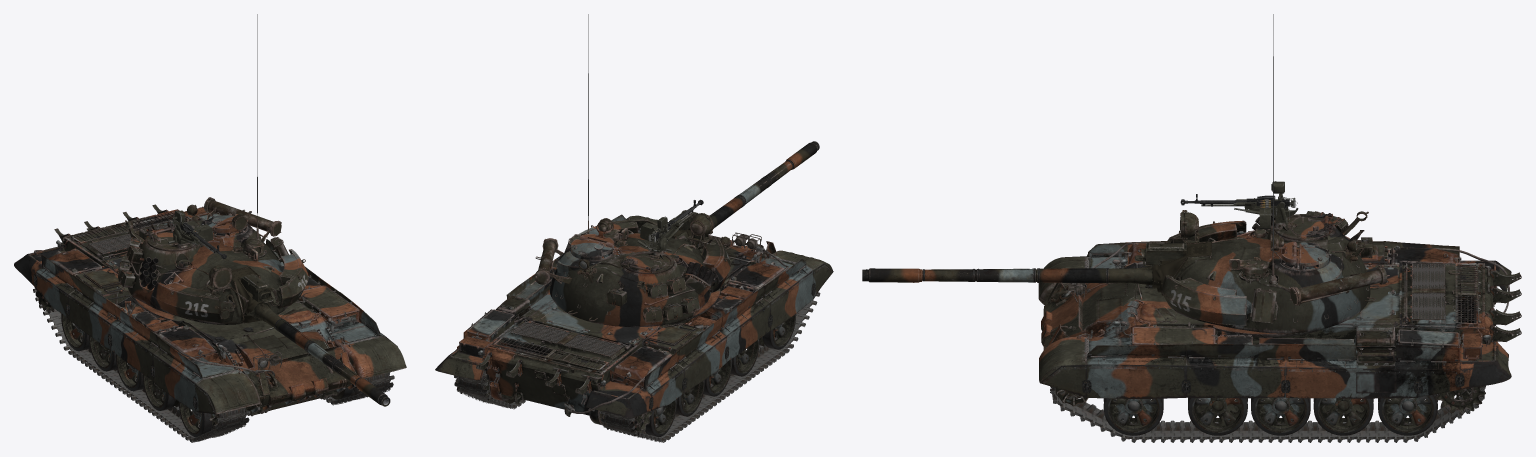
Rendered from georgian_t-55am.glb.
3 renders of one model, left to right at view 1: azimuth 30°, elevation 25°; view 2: azimuth 150°, elevation 25°; view 3: azimuth 270°, elevation 25°, orthographic. The views are drawn at different scales.
Parts seen in each view (by area): view 1: vehicle#x_root_107_5372aeb0-e8bb-425d-935c-6684d30b8530_0, vehicle#bone_turret_51_3f5ec90d-52c6-4b57-8119-08db6d94c7bb_, vehicle#track_r_78, vehicle#ex_armor_01_52_3f5ec90d-52c6-4b57-8119-08db6d94c7bb_, vehicle#gun_barrel_57, vehicle#ex_decor_l_01_10_5372aeb0-e8bb-425d-935c-6684d30b853, vehicle#ex_decor_r_01_18_5372aeb0-e8bb-425d-935c-6684d30b853, vehicle#ex_decor_l_05_32_5372aeb0-e8bb-425d-935c-6684d30b853, vehicle#ex_armor_r_01_19_5372aeb0-e8bb-425d-935c-6684d30b853, vehicle#ex_armor_02_62_3f5ec90d-52c6-4b57-8119-08db6d94c7bb_, vehicle#ex_armor_r_02_20_5372aeb0-e8bb-425d-935c-6684d30b853, vehicle#ex_armor_r_03_21_5372aeb0-e8bb-425d-935c-6684d30b853 (+25 smaller); view 2: vehicle#x_root_107_5372aeb0-e8bb-425d-935c-6684d30b8530_0, vehicle#bone_turret_51_3f5ec90d-52c6-4b57-8119-08db6d94c7bb_, vehicle#track_r_78, vehicle#ex_decor_r_07_23_5372aeb0-e8bb-425d-935c-6684d30b853, vehicle#gun_barrel_57, vehicle#ex_armor_r_01_19_5372aeb0-e8bb-425d-935c-6684d30b853, vehicle#x_root_107_c6357b88-99f9-46f7-86b0-bb5c10748ba3_0, vehicle#ex_armor_r_02_20_5372aeb0-e8bb-425d-935c-6684d30b853, vehicle#ex_decor_r_06_83_5372aeb0-e8bb-425d-935c-6684d30b853, vehicle#ex_armor_r_03_21_5372aeb0-e8bb-425d-935c-6684d30b853, vehicle#ex_decor_r_05_86_5372aeb0-e8bb-425d-935c-6684d30b853, vehicle#ex_decor_r_02_25_5372aeb0-e8bb-425d-935c-6684d30b853 (+30 smaller); view 3: vehicle#x_root_107_5372aeb0-e8bb-425d-935c-6684d30b8530_0, vehicle#bone_turret_51_3f5ec90d-52c6-4b57-8119-08db6d94c7bb_, vehicle#track_l_81, vehicle#gun_barrel_57, vehicle#ex_armor_l_04_14_5372aeb0-e8bb-425d-935c-6684d30b853, vehicle#ex_armor_l_02_12_5372aeb0-e8bb-425d-935c-6684d30b853, vehicle#ex_armor_l_03_13_5372aeb0-e8bb-425d-935c-6684d30b853, vehicle#ex_armor_02_62_3f5ec90d-52c6-4b57-8119-08db6d94c7bb_, vehicle#wheel_l_05_96, vehicle#wheel_l_03_92, vehicle#wheel_l_04_94, vehicle#wheel_l_02_90 (+29 smaller).
Part boxes in pixels (bbox=[...]): vehicle#x_root_107_5372aeb0-e8bb-425d-935c-6684d30b8530_0: bbox=[34, 204, 379, 416]; vehicle#bone_turret_51_3f5ec90d-52c6-4b57-8119-08db6d94c7bb_: bbox=[125, 210, 287, 324]; vehicle#track_r_78: bbox=[33, 288, 250, 442]; vehicle#ex_armor_01_52_3f5ec90d-52c6-4b57-8119-08db6d94c7bb_: bbox=[151, 282, 234, 323]; vehicle#gun_barrel_57: bbox=[254, 303, 390, 406]; vehicle#ex_decor_l_01_10_5372aeb0-e8bb-425d-935c-6684d30b853: bbox=[341, 336, 406, 378]; vehicle#ex_decor_r_01_18_5372aeb0-e8bb-425d-935c-6684d30b853: bbox=[196, 370, 260, 414]; vehicle#ex_decor_l_05_32_5372aeb0-e8bb-425d-935c-6684d30b853: bbox=[298, 285, 359, 326]; vehicle#ex_armor_r_01_19_5372aeb0-e8bb-425d-935c-6684d30b853: bbox=[151, 353, 195, 411]; vehicle#ex_armor_02_62_3f5ec90d-52c6-4b57-8119-08db6d94c7bb_: bbox=[277, 249, 308, 308]; vehicle#ex_armor_r_02_20_5372aeb0-e8bb-425d-935c-6684d30b853: bbox=[109, 324, 153, 380]; vehicle#ex_armor_r_03_21_5372aeb0-e8bb-425d-935c-6684d30b853: bbox=[66, 294, 110, 349]; vehicle#x_root_107_5372aeb0-e8bb-425d-935c-6684d30b8530_0: bbox=[476, 241, 795, 425]; vehicle#bone_turret_51_3f5ec90d-52c6-4b57-8119-08db6d94c7bb_: bbox=[549, 221, 715, 327]; vehicle#track_r_78: bbox=[600, 292, 820, 442]; vehicle#ex_decor_r_07_23_5372aeb0-e8bb-425d-935c-6684d30b853: bbox=[586, 379, 652, 417]; vehicle#gun_barrel_57: bbox=[709, 141, 819, 228]; vehicle#ex_armor_r_01_19_5372aeb0-e8bb-425d-935c-6684d30b853: bbox=[770, 270, 814, 330]; vehicle#x_root_107_c6357b88-99f9-46f7-86b0-bb5c10748ba3_0: bbox=[512, 322, 623, 355]; vehicle#ex_armor_r_02_20_5372aeb0-e8bb-425d-935c-6684d30b853: bbox=[726, 303, 771, 361]; vehicle#ex_decor_r_06_83_5372aeb0-e8bb-425d-935c-6684d30b853: bbox=[612, 346, 671, 386]; vehicle#ex_armor_r_03_21_5372aeb0-e8bb-425d-935c-6684d30b853: bbox=[684, 336, 727, 393]; vehicle#ex_decor_r_05_86_5372aeb0-e8bb-425d-935c-6684d30b853: bbox=[642, 323, 703, 355]; vehicle#ex_decor_r_02_25_5372aeb0-e8bb-425d-935c-6684d30b853: bbox=[726, 262, 784, 293]; vehicle#x_root_107_5372aeb0-e8bb-425d-935c-6684d30b8530_0: bbox=[1041, 242, 1521, 399]; vehicle#bone_turret_51_3f5ec90d-52c6-4b57-8119-08db6d94c7bb_: bbox=[1172, 211, 1379, 333]; vehicle#track_l_81: bbox=[1050, 359, 1485, 442]; vehicle#gun_barrel_57: bbox=[862, 266, 1152, 285]; vehicle#ex_armor_l_04_14_5372aeb0-e8bb-425d-935c-6684d30b853: bbox=[1285, 367, 1419, 398]; vehicle#ex_armor_l_02_12_5372aeb0-e8bb-425d-935c-6684d30b853: bbox=[1086, 364, 1186, 398]; vehicle#ex_armor_l_03_13_5372aeb0-e8bb-425d-935c-6684d30b853: bbox=[1185, 365, 1286, 398]; vehicle#ex_armor_02_62_3f5ec90d-52c6-4b57-8119-08db6d94c7bb_: bbox=[1161, 275, 1246, 325]; vehicle#wheel_l_05_96: bbox=[1378, 394, 1437, 435]; vehicle#wheel_l_03_92: bbox=[1251, 392, 1310, 435]; vehicle#wheel_l_04_94: bbox=[1313, 398, 1373, 435]; vehicle#wheel_l_02_90: bbox=[1188, 397, 1247, 435].
Size of what is drawn, in the model's own units: 3.57 by 6.06 by 8.92.
17 materials, 15 textured.
